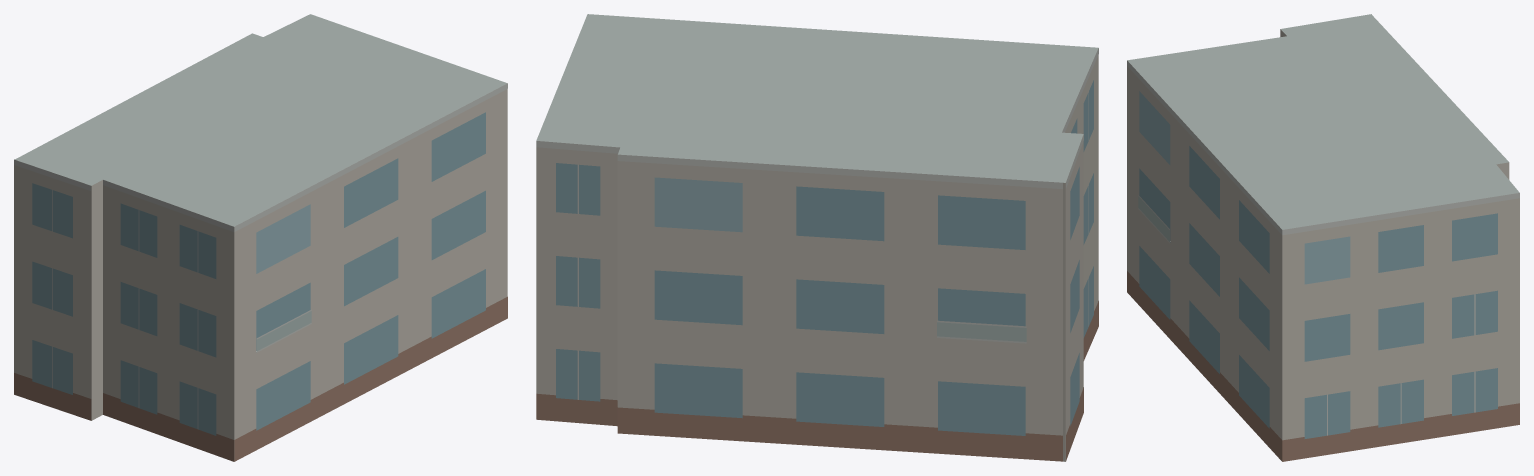
The model's file is survey-upis-32856126.glb.
The picture shows the model from 3 angles, left to right: view 1: azimuth 30°, elevation 25°; view 2: azimuth 150°, elevation 25°; view 3: azimuth 270°, elevation 25°; orthographic projection. The views are drawn at different scales.
Visible parts, largest first — view 1: survey-upis-32856126.tmp; view 2: survey-upis-32856126.tmp; view 3: survey-upis-32856126.tmp.
Part boxes in pixels (x1,y1,x2,y2): survey-upis-32856126.tmp: (14,14,507,461); survey-upis-32856126.tmp: (536,14,1098,461); survey-upis-32856126.tmp: (1127,14,1519,461).
Size of the model in its own units: 20.99 by 10.51 by 16.14.
